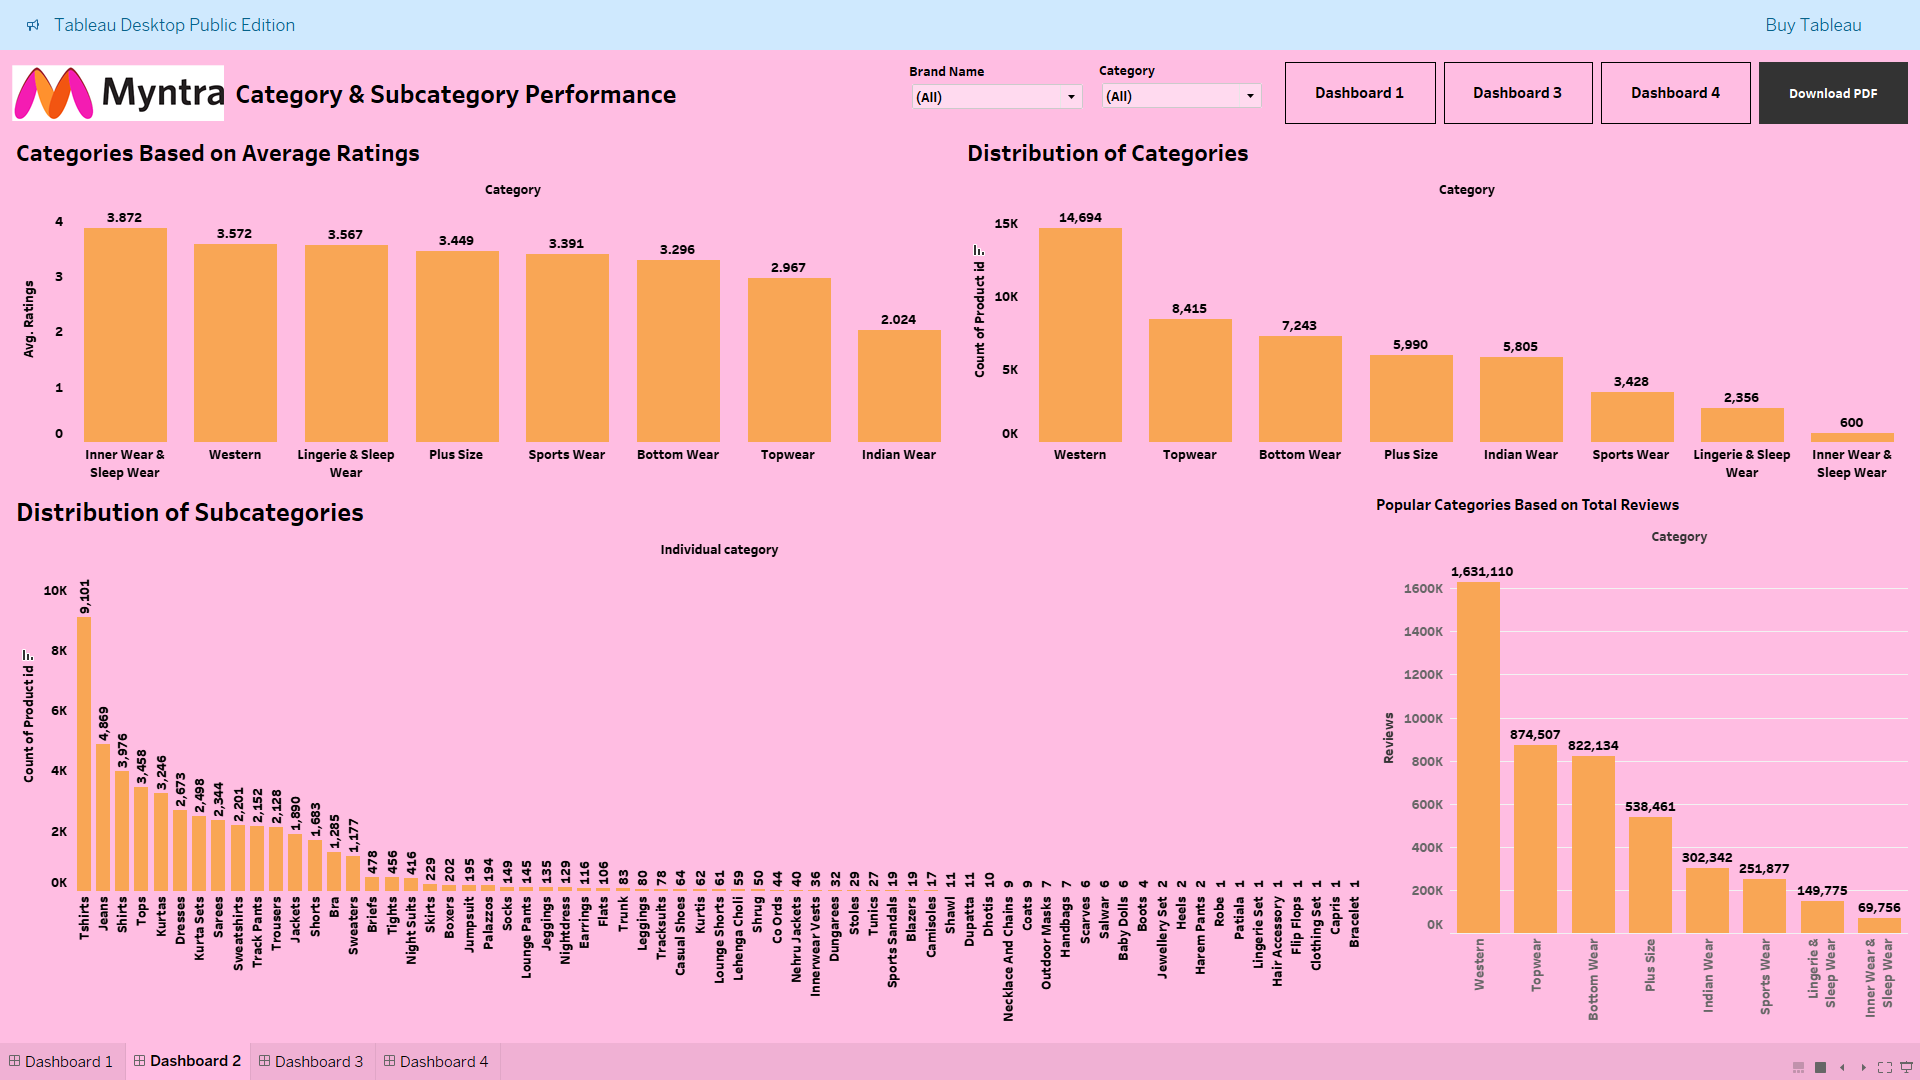

Layout of this report page (visuals, bound fields, positions):
{"tool":"tableau","page":{"name":"Dashboard 2","canvas":[1000,1000],"units":"permille","ordinal":1},"visuals":[{"type":"image","param":"Image/Logo.png","box":[5.1,10,114.4,69.9]},{"type":"text","box":[119.5,10,343.7,69.9]},{"type":"blank","box":[463.2,10,203.5,69.9]},{"type":"dashboard-object","box":[666.6,10,82.9,69.9]},{"type":"dashboard-object","box":[749.5,10,81.5,69.9]},{"type":"dashboard-object","box":[831.1,10,82.2,69.9]},{"type":"dashboard-object","box":[913.3,10,81.7,69.9]},{"type":"filter","title":"Categories Based on Average Ratings","param":"[federated.0ox6rot0ti0j8r0ztm70f11s7nil].[none:Category:nk]","box":[572.4,11.2,86.2,69.9]},{"type":"filter","title":"Categories Based on Average Ratings","param":"[federated.0ox6rot0ti0j8r0ztm70f11s7nil].[none:BrandName:nk]","box":[473.4,12.5,92.3,68.7]},{"type":"worksheet","title":"Categories Based on Average Ratings","mark":"Automatic","rows":["Ratings"],"cols":["Category"],"box":[5.1,79.9,494.5,359]},{"type":"worksheet","title":"Distribution of Categories","mark":"Automatic","rows":["Product_id"],"cols":["Category"],"box":[499.6,79.9,495.3,359]},{"type":"worksheet","title":"Distribution of subcategories","mark":"Automatic","rows":["Product_id"],"cols":["Individual_category"],"box":[5.1,438.9,706.8,551.1]},{"type":"worksheet","title":"Popular Categories Based on Total Reviews","mark":"Automatic","rows":["Reviews"],"cols":["Category"],"box":[711.9,438.9,283,551.1]}]}

Visuals, with their boxes on the dashboard's canvas, which has no fixed pixel size, in thousandths of its width and height (x1, y1, x2, y2). These are canvas units, not pixel positions in the 1920x1080 screenshot, which may show the page scaled, cropped or inside an application window:
image: left=5, top=10, right=120, bottom=80
text: left=120, top=10, right=463, bottom=80
blank: left=463, top=10, right=667, bottom=80
dashboard-object: left=667, top=10, right=750, bottom=80
dashboard-object: left=750, top=10, right=831, bottom=80
dashboard-object: left=831, top=10, right=913, bottom=80
dashboard-object: left=913, top=10, right=995, bottom=80
"Categories Based on Average Ratings" filter: left=572, top=11, right=659, bottom=81
"Categories Based on Average Ratings" filter: left=473, top=12, right=566, bottom=81
"Categories Based on Average Ratings" worksheet: left=5, top=80, right=500, bottom=439
"Distribution of Categories" worksheet: left=500, top=80, right=995, bottom=439
"Distribution of subcategories" worksheet: left=5, top=439, right=712, bottom=990
"Popular Categories Based on Total Reviews" worksheet: left=712, top=439, right=995, bottom=990
